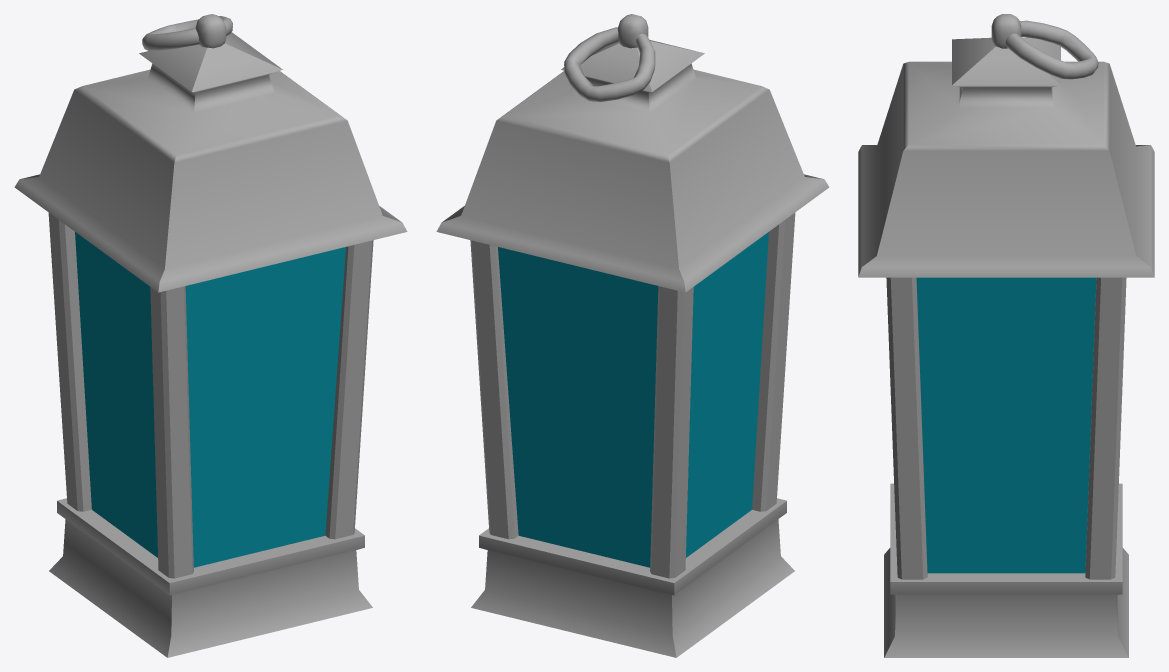
Rendered from Asset_Lantern.fbx.
The picture shows the model from 3 angles, left to right: view 1: azimuth 30°, elevation 25°; view 2: azimuth 150°, elevation 25°; view 3: azimuth 270°, elevation 25°; orthographic projection. The views are drawn at different scales.
Parts seen in each view (by area): view 1: pCube75; view 2: pCube75; view 3: pCube75.
Boxes of the visible parts, <box> form: pCube75: <box>14,14,407,657</box>; pCube75: <box>436,14,829,657</box>; pCube75: <box>858,14,1154,657</box>.
Bounding box in the file's own units: 2.25 × 4.94 × 2.25.
